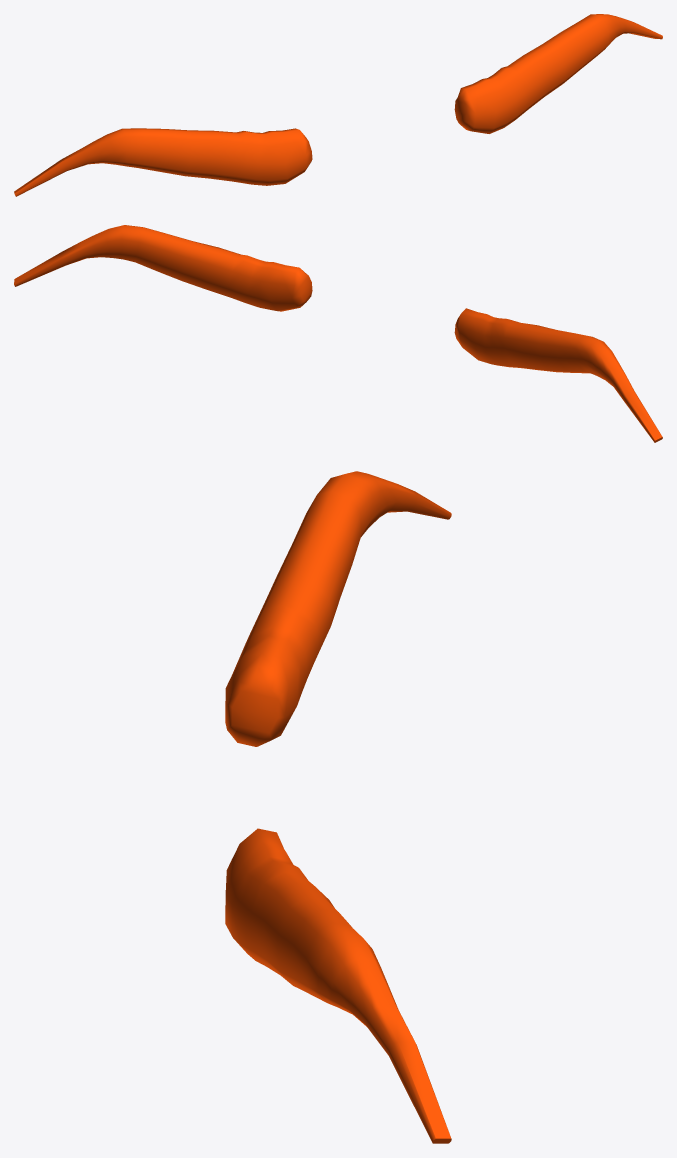
The model's file is Eyebrows_08_06.fbx.
3 renders of one model, top to bottom at view 1: azimuth 30°, elevation 25°; view 2: azimuth 150°, elevation 25°; view 3: azimuth 270°, elevation 25°, orthographic. The views are drawn at different scales.
Parts seen in each view (by area): view 1: Eyebrows_08_06; view 2: Eyebrows_08_06; view 3: Eyebrows_08_06.
Part boxes in pixels (left/top/right/bottom): Eyebrows_08_06: left=14, top=14, right=662, bottom=196; Eyebrows_08_06: left=14, top=225, right=662, bottom=442; Eyebrows_08_06: left=225, top=471, right=451, bottom=1143.
Bounding box in the file's own units: 19.15 × 1.96 × 2.9.
